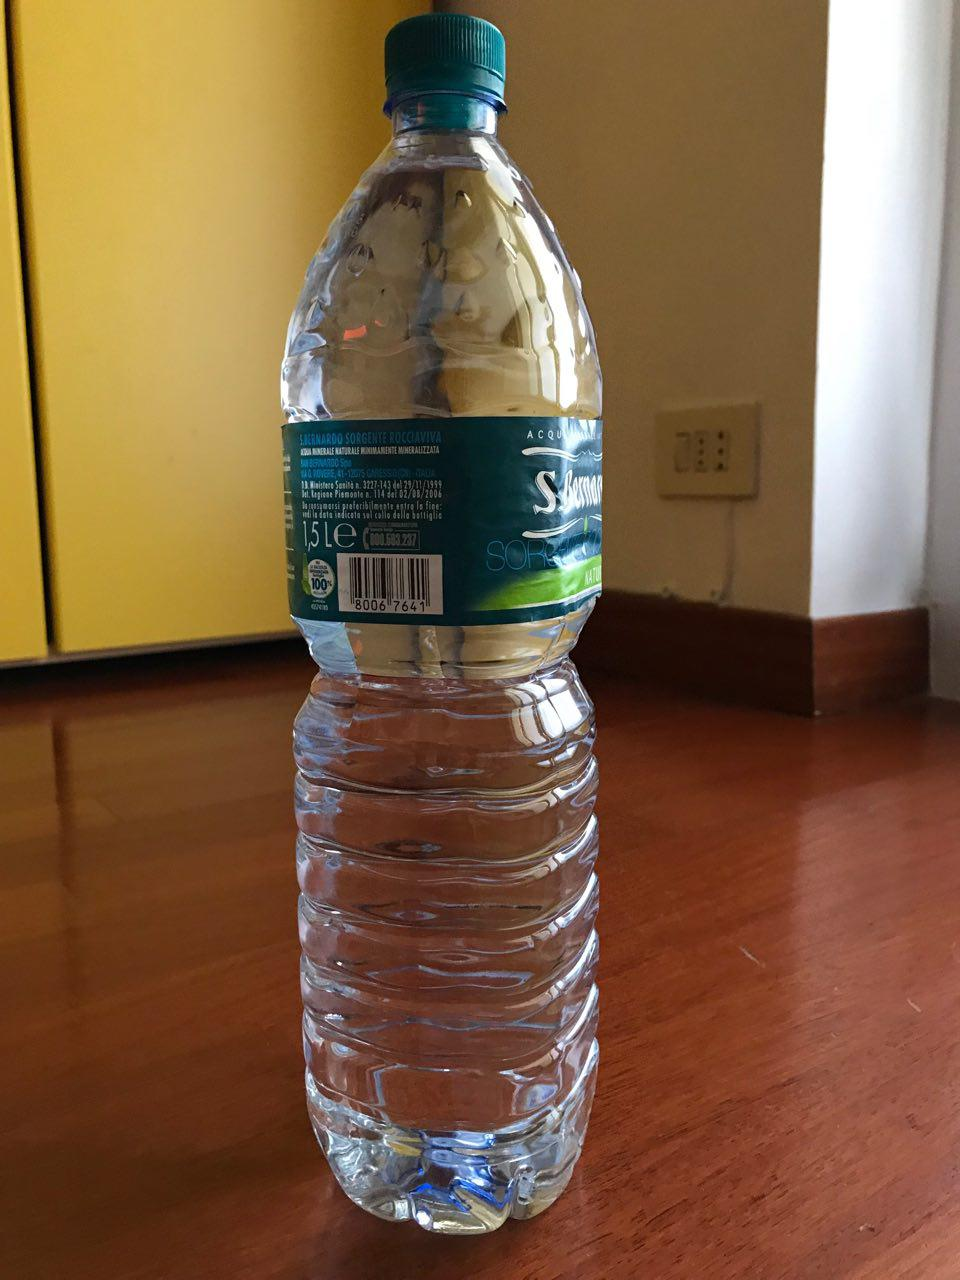san_bernardo: (277, 12, 606, 1238)
